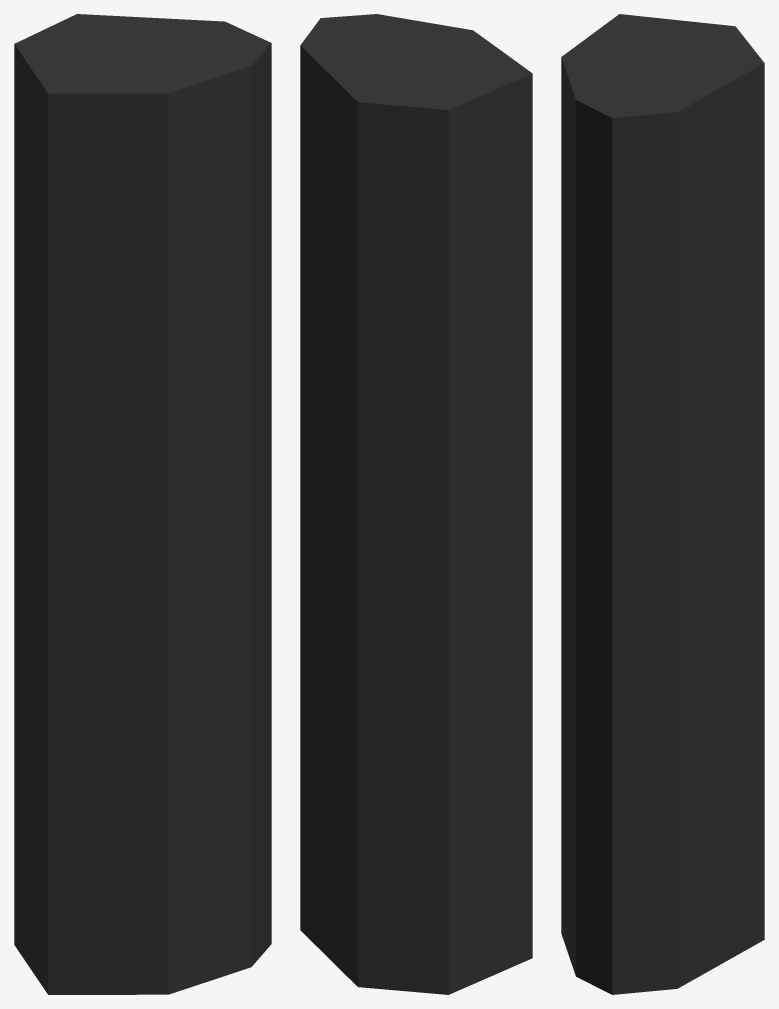
File: Rock1.fbx
The picture shows the model from 3 angles, left to right: view 1: azimuth 30°, elevation 25°; view 2: azimuth 150°, elevation 25°; view 3: azimuth 270°, elevation 25°; orthographic projection. The views are drawn at different scales.
Visible parts, largest first — view 1: Rock1; view 2: Rock1; view 3: Rock1.
Part boxes in pixels (left/top/right/bottom): Rock1: left=14, top=14, right=271, bottom=994; Rock1: left=300, top=14, right=532, bottom=994; Rock1: left=561, top=14, right=764, bottom=994.
Size of the model in its own units: 510 by 2000 by 420.
